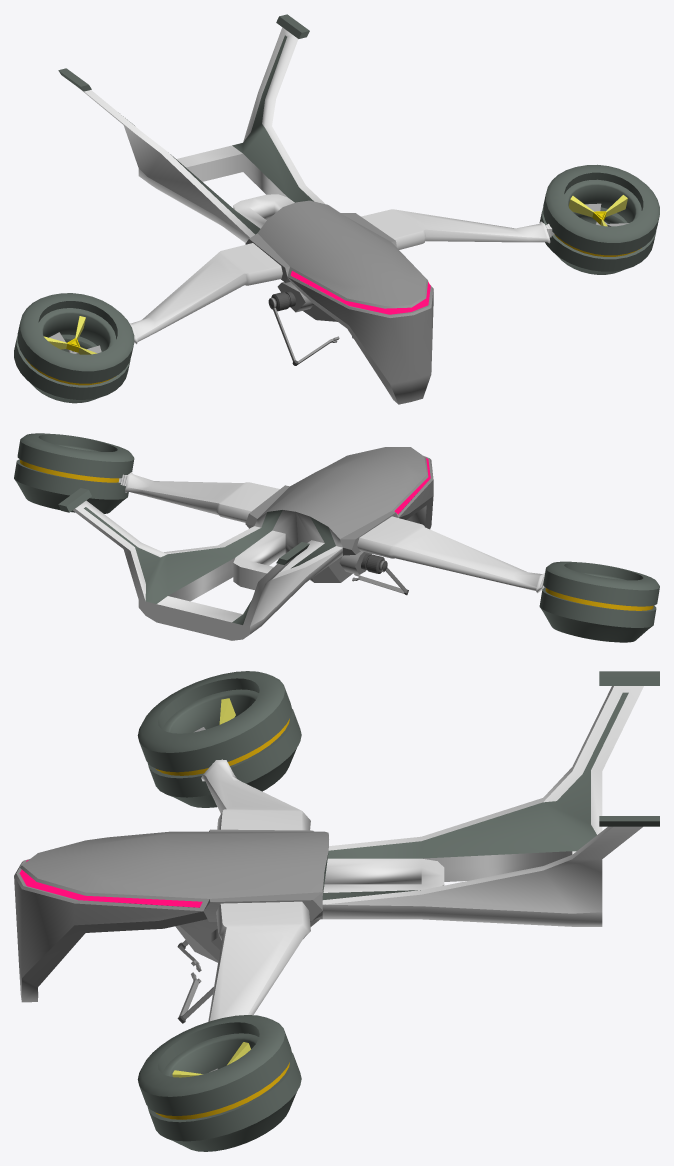
File: Drone.fbx
The picture shows the model from 3 angles, top to bottom: view 1: azimuth 30°, elevation 25°; view 2: azimuth 150°, elevation 25°; view 3: azimuth 270°, elevation 25°; orthographic projection. The views are drawn at different scales.
Visible parts, largest first — view 1: drone, screw; view 2: drone, screw, grab, grab detail.001; view 3: drone, screw.
Boxes of the visible parts, bbox=[...] form: drone: bbox=[58, 14, 550, 404]; screw: bbox=[14, 164, 659, 403]; drone: bbox=[58, 447, 544, 640]; screw: bbox=[14, 433, 659, 642]; grab: bbox=[352, 560, 408, 595]; grab detail.001: bbox=[361, 554, 387, 573]; drone: bbox=[14, 671, 659, 1021]; screw: bbox=[137, 671, 301, 1151].
Bounding box in the file's own units: 373 × 106 × 249.
